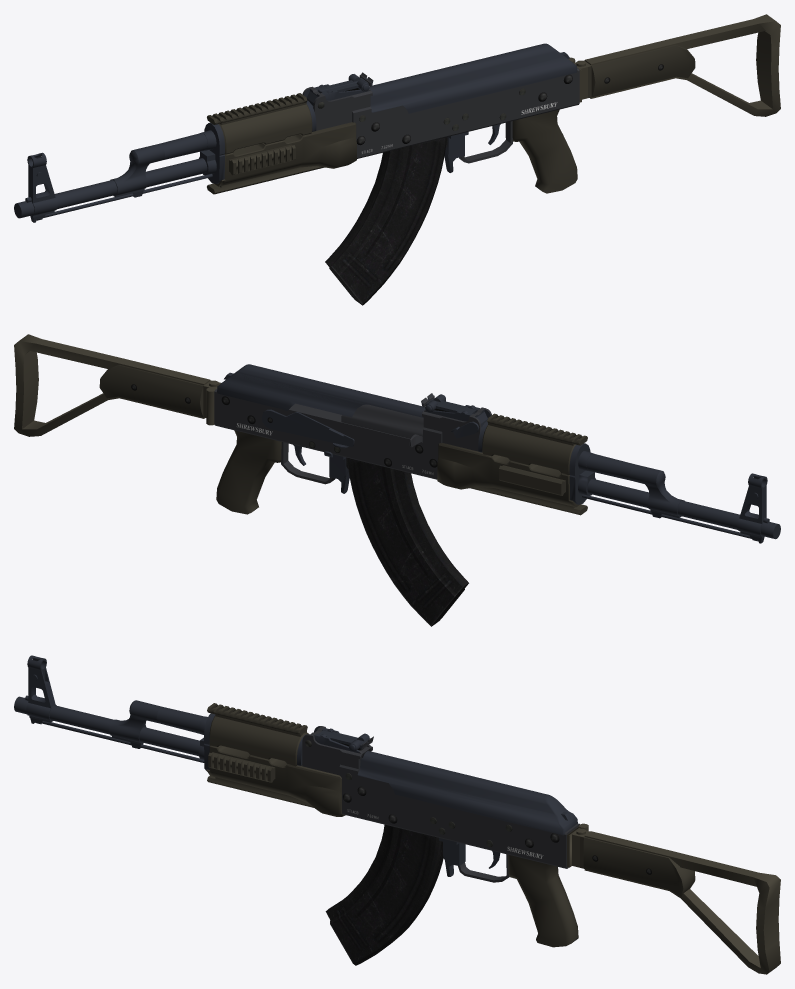
The model's file is weapon_assaultrifle.glb.
3 renders of one model, top to bottom at view 1: azimuth 30°, elevation 25°; view 2: azimuth 150°, elevation 25°; view 3: azimuth 330°, elevation 25°, orthographic.
Parts seen in each view (by area): view 1: main_frame_assaultrifle, magazine_assaultrifle, stock_assaultrifle, lower_handguard_assaultrifle, barrel_assaultrifle, grip_assaultrifle, upper_handguard_assaultrifle, front_sight_assaultrifle, cleaning_rod_assaultrifle; view 2: main_frame_assaultrifle, magazine_assaultrifle, stock_assaultrifle, lower_handguard_assaultrifle, barrel_assaultrifle, grip_assaultrifle, upper_handguard_assaultrifle, front_sight_assaultrifle, cleaning_rod_assaultrifle; view 3: main_frame_assaultrifle, stock_assaultrifle, magazine_assaultrifle, lower_handguard_assaultrifle, grip_assaultrifle, barrel_assaultrifle, upper_handguard_assaultrifle, front_sight_assaultrifle, cleaning_rod_assaultrifle.
Part boxes in pixels (x1=…): main_frame_assaultrifle: x1=302, y1=43, x2=579, y2=158; magazine_assaultrifle: x1=325, y1=137, x2=447, y2=305; stock_assaultrifle: x1=568, y1=14, x2=780, y2=116; lower_handguard_assaultrifle: x1=207, y1=122, x2=356, y2=194; barrel_assaultrifle: x1=54, y1=130, x2=216, y2=209; grip_assaultrifle: x1=444, y1=109, x2=577, y2=193; upper_handguard_assaultrifle: x1=204, y1=93, x2=312, y2=155; front_sight_assaultrifle: x1=14, y1=152, x2=57, y2=222; cleaning_rod_assaultrifle: x1=44, y1=174, x2=212, y2=217; main_frame_assaultrifle: x1=214, y1=364, x2=491, y2=479; magazine_assaultrifle: x1=346, y1=457, x2=468, y2=626; stock_assaultrifle: x1=14, y1=334, x2=220, y2=436; lower_handguard_assaultrifle: x1=437, y1=443, x2=587, y2=515; barrel_assaultrifle: x1=578, y1=451, x2=739, y2=529; grip_assaultrifle: x1=216, y1=430, x2=349, y2=514; upper_handguard_assaultrifle: x1=482, y1=413, x2=590, y2=476; front_sight_assaultrifle: x1=737, y1=473, x2=780, y2=543; cleaning_rod_assaultrifle: x1=582, y1=494, x2=751, y2=538; main_frame_assaultrifle: x1=297, y1=726, x2=579, y2=868; stock_assaultrifle: x1=567, y1=823, x2=780, y2=974; magazine_assaultrifle: x1=325, y1=824, x2=443, y2=965; lower_handguard_assaultrifle: x1=204, y1=743, x2=345, y2=816; grip_assaultrifle: x1=439, y1=838, x2=578, y2=947; barrel_assaultrifle: x1=49, y1=700, x2=207, y2=759; upper_handguard_assaultrifle: x1=204, y1=703, x2=308, y2=766; front_sight_assaultrifle: x1=14, y1=655, x2=56, y2=724; cleaning_rod_assaultrifle: x1=41, y1=721, x2=204, y2=762.
Bounding box in the file's own units: 101 × 29.05 × 6.77.
7 materials, 7 textured.
